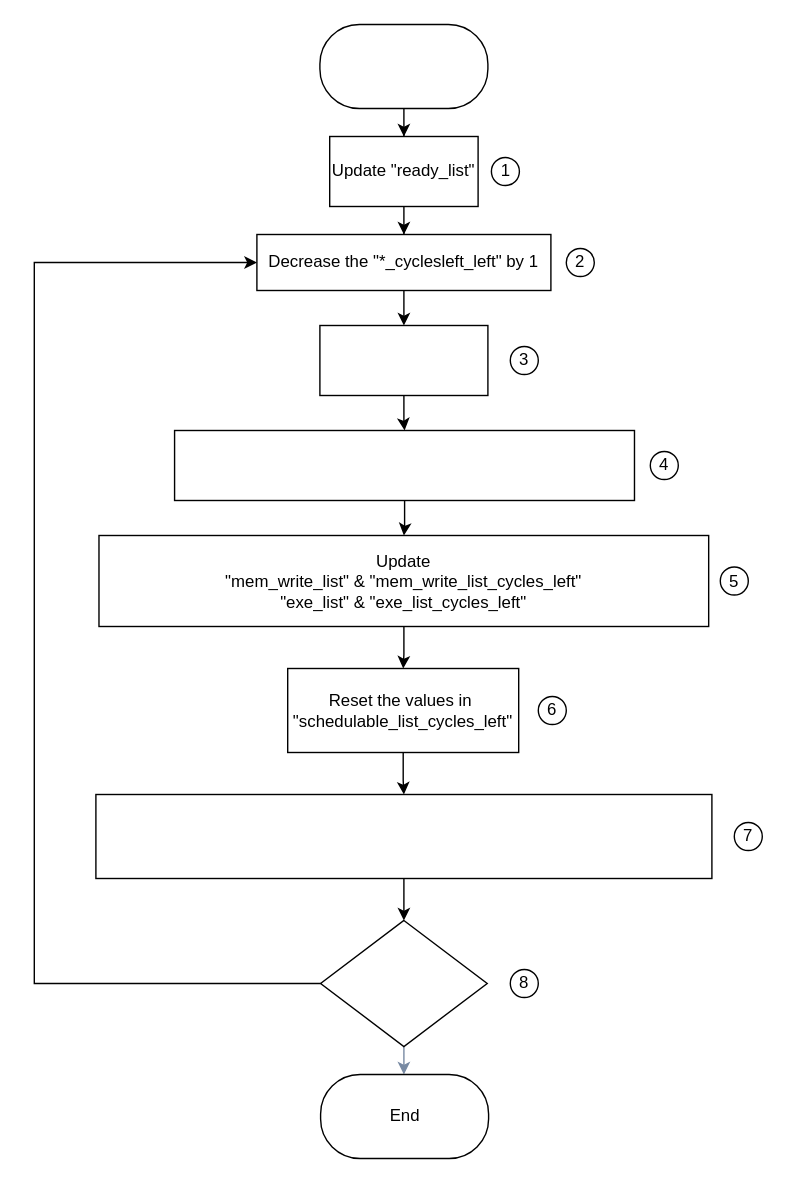
This 787x1183 diagram has some shape labels left out. Each missing label, with the box of its shape:
Populate "ready_list": (318, 324, 488, 396)
schedule complete?: (319, 919, 487, 1046)
Start: (318, 23, 488, 108)
Update "mem_read_list" & "mem_read_list_cycles_left": (94, 793, 712, 878)
Update "scheduleable_list" & "scheduleable_list_cycles_left": (173, 429, 634, 500)
